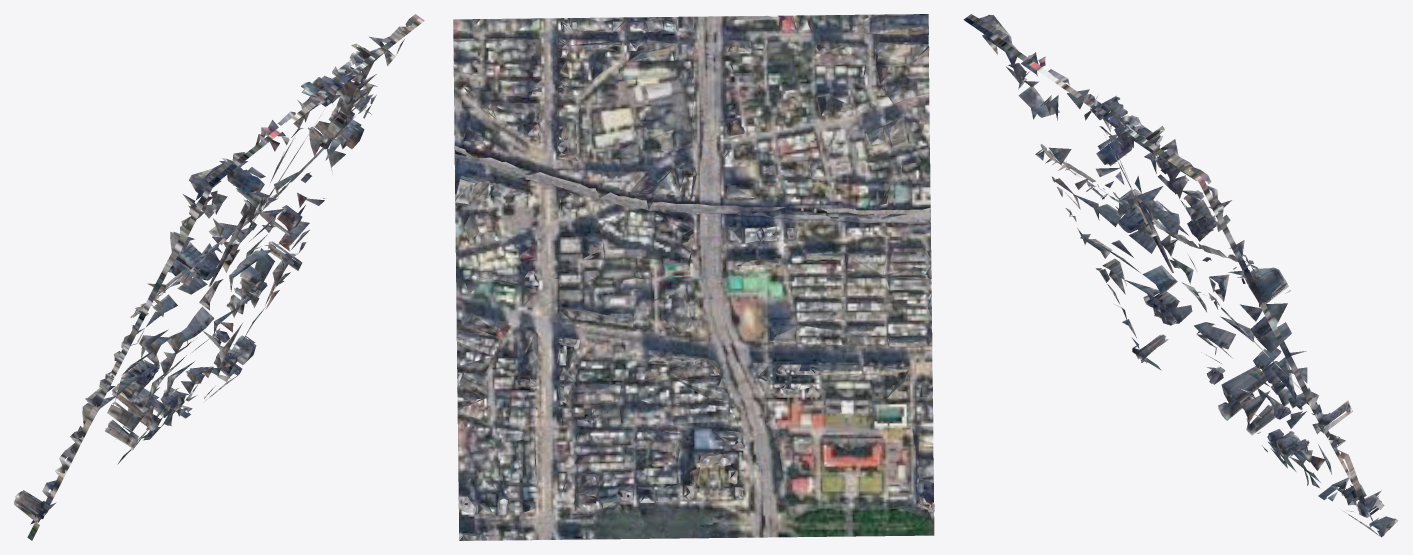
3 views of the same model, side by side, from view 1: azimuth 30°, elevation 25°; view 2: azimuth 150°, elevation 25°; view 3: azimuth 270°, elevation 25° (orthographic). The views are drawn at different scales.
Size of the model in its own units: 1244 by 1133 by 1073.
2 materials, 2 textured.
